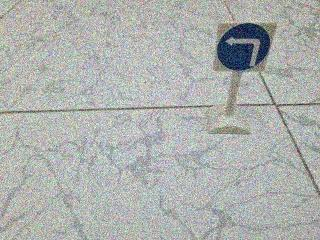left: (189, 19, 286, 85)
